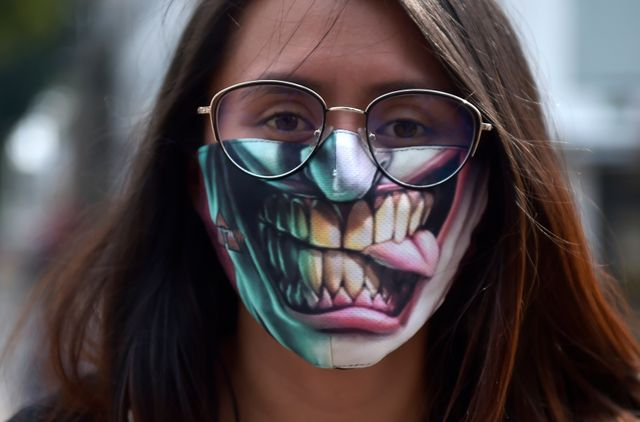with_mask: (183, 59, 520, 379)
